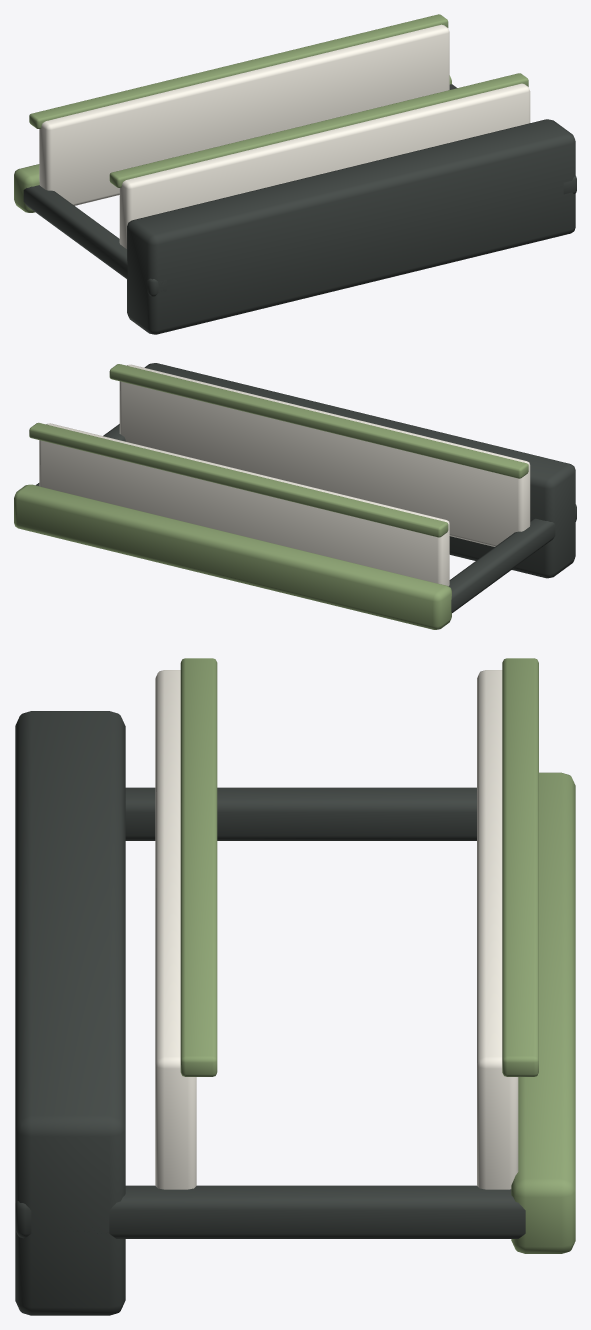
File: shelf_wall_low.glb
3 views of the same model, one above another, from view 1: azimuth 30°, elevation 25°; view 2: azimuth 150°, elevation 25°; view 3: azimuth 270°, elevation 25° (orthographic). The views are drawn at different scales.
Visible parts, largest first — view 1: Base, Shelf.001, Shelf, Trim, Trim.001, Post, Header; view 2: Shelf, Header, Shelf.001, Base, Trim, Trim.001, Post; view 3: Base, Post.001, Header, Trim, Post, Trim.001, Shelf, Shelf.001.
Boxes of the visible parts, x1,y1,x2,y2 form: Base: (127, 119, 575, 334); Shelf.001: (39, 24, 449, 205); Shelf: (119, 83, 530, 248); Trim: (109, 73, 528, 187); Trim.001: (29, 14, 448, 128); Post: (23, 185, 166, 296); Header: (14, 75, 451, 212); Shelf: (119, 364, 530, 546); Header: (14, 484, 451, 629); Shelf.001: (39, 423, 449, 586); Base: (144, 363, 575, 578); Trim: (109, 364, 528, 478); Trim.001: (29, 422, 448, 537); Post: (448, 504, 576, 612); Base: (15, 711, 125, 1315); Post.001: (15, 1185, 525, 1238); Header: (511, 772, 575, 1253); Trim: (180, 658, 217, 1076); Post: (125, 787, 476, 840); Trim.001: (502, 658, 538, 1076); Shelf: (155, 670, 196, 1189); Shelf.001: (477, 670, 518, 1189).
Bounding box in the file's own units: 2.15 × 0.615 × 1.22.
